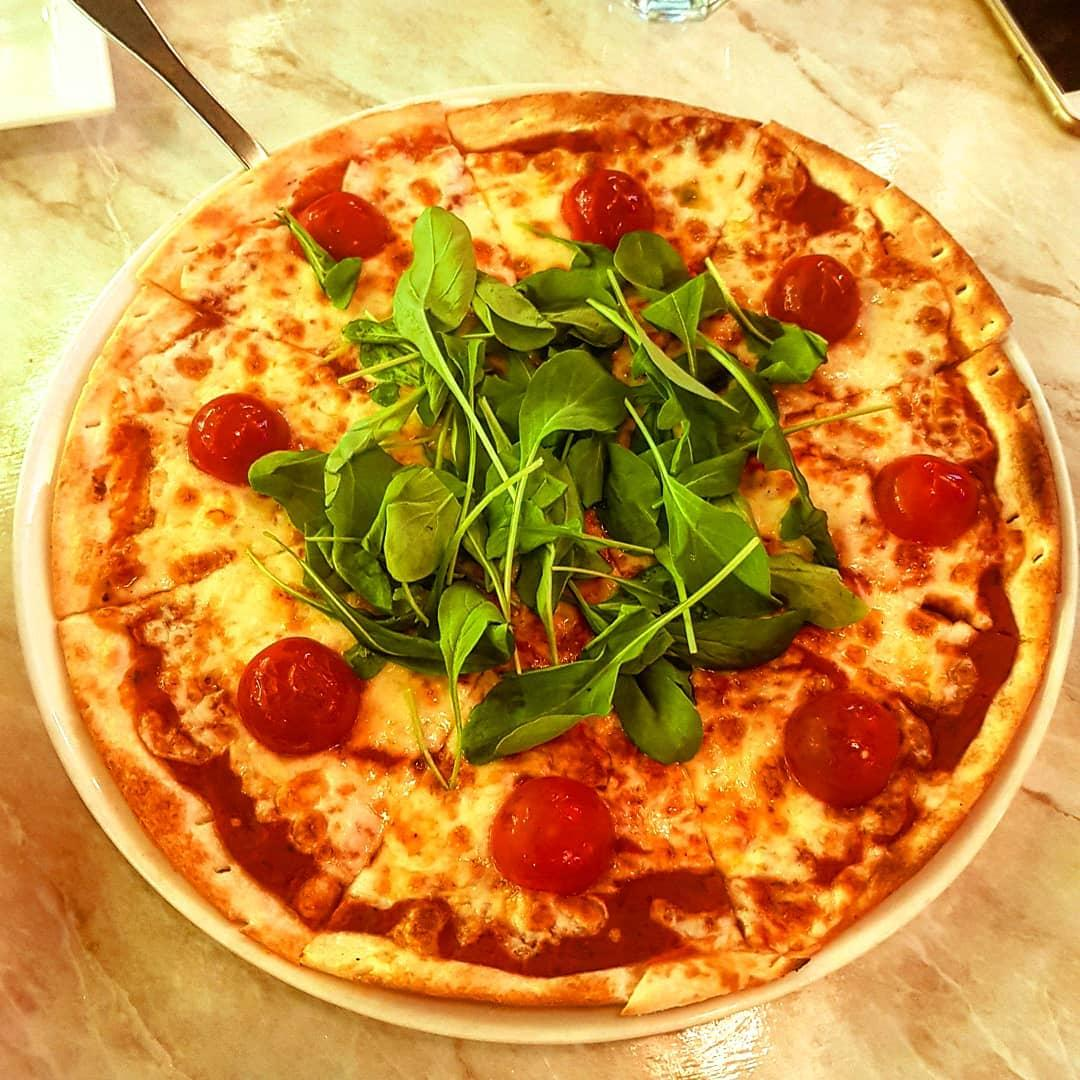Basil: (458, 223, 712, 781), (656, 346, 873, 676), (242, 448, 508, 683), (388, 197, 526, 503), (681, 261, 832, 392), (343, 306, 449, 396), (278, 218, 366, 317)
Pepperoni: (480, 768, 622, 905), (230, 628, 365, 766), (780, 681, 907, 816), (866, 446, 989, 555), (757, 247, 866, 349), (283, 184, 399, 279), (182, 392, 296, 488), (557, 166, 664, 256)
Pizza: (8, 85, 1060, 1028)
